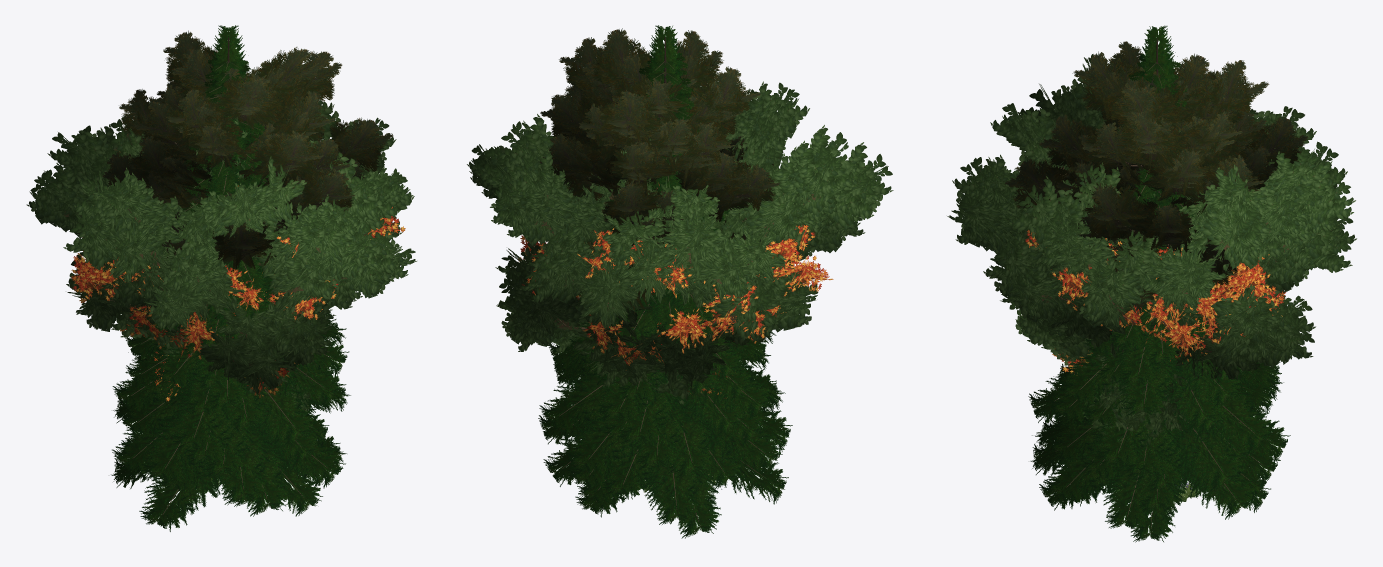
The model's file is nat_forest.glb.
3 renders of one model, left to right at view 1: azimuth 30°, elevation 25°; view 2: azimuth 150°, elevation 25°; view 3: azimuth 270°, elevation 25°, orthographic. The views are drawn at different scales.
Visible parts, largest first — view 1: broad, fir, pine, maple; view 2: broad, fir, pine, maple; view 3: broad, fir, pine, maple.
Boxes of the visible parts, x1,y1,x2,y2 form: broad: (26,52,416,411); fir: (111,25,350,531); pine: (102,30,393,273); maple: (71,185,405,401); broad: (467,81,893,404); fir: (538,25,792,538); pine: (539,28,783,314); maple: (518,183,833,398); broad: (947,54,1356,448); fir: (1028,25,1290,542); pine: (1005,41,1307,315); maple: (1025,198,1285,374).
Size of the model in its own units: 15.85 by 18.71 by 14.94.
Materials: 9 (9 with a texture image).
